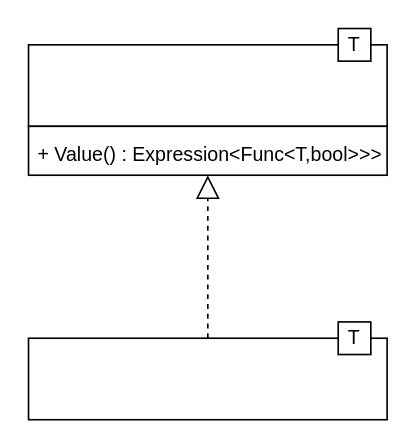
Some shapes in this 416 by 448 pixel diagram are drawn without their labels. Each missing label, with the box of its shape:
RSqlQuery: (27, 337, 387, 420)
«interface» IRSqlQuery: (27, 43, 387, 126)
